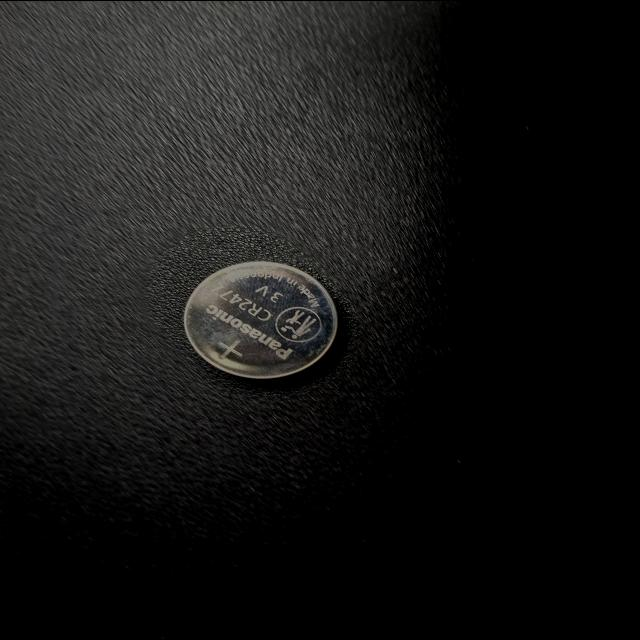COIN: (345, 384, 503, 504)
